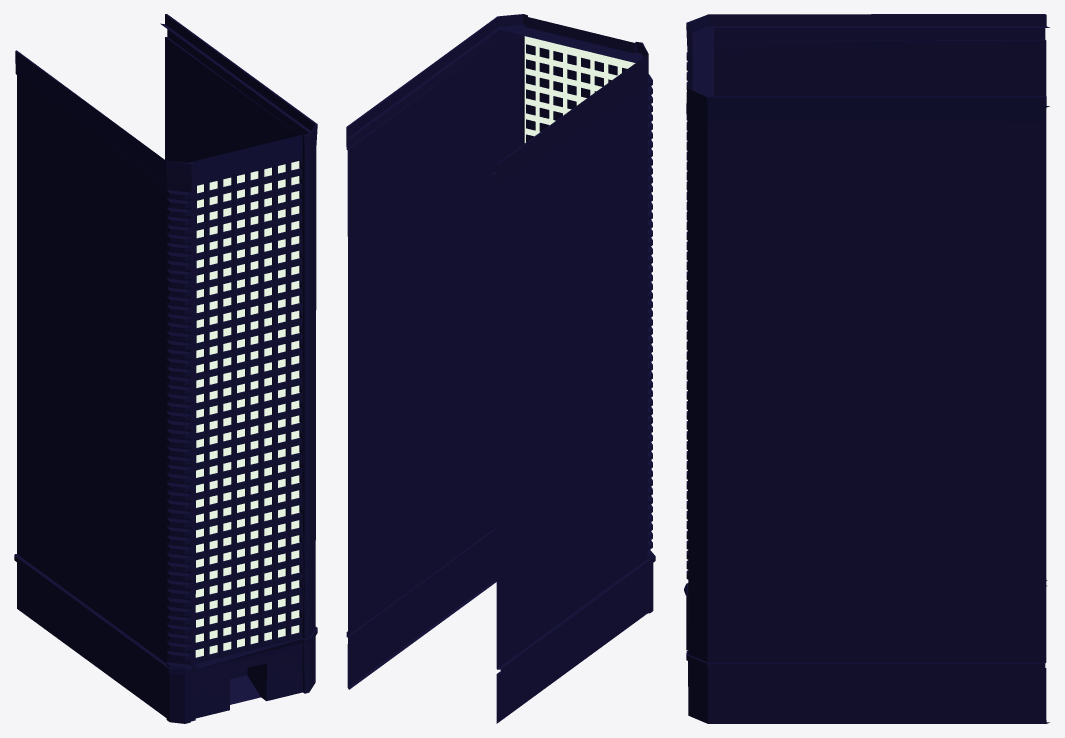
The model's file is building_08.gltf.
3 views of the same model, side by side, from view 1: azimuth 30°, elevation 25°; view 2: azimuth 150°, elevation 25°; view 3: azimuth 270°, elevation 25° (orthographic). The views are drawn at different scales.
Visible parts, largest first — view 1: building_08; view 2: building_08; view 3: building_08.
Boxes of the visible parts, x1,y1,x2,y2 form: building_08: (14, 14, 317, 723); building_08: (346, 14, 655, 723); building_08: (684, 14, 1049, 723).
Bounding box in the file's own units: 1.53 × 5.31 × 2.82.
